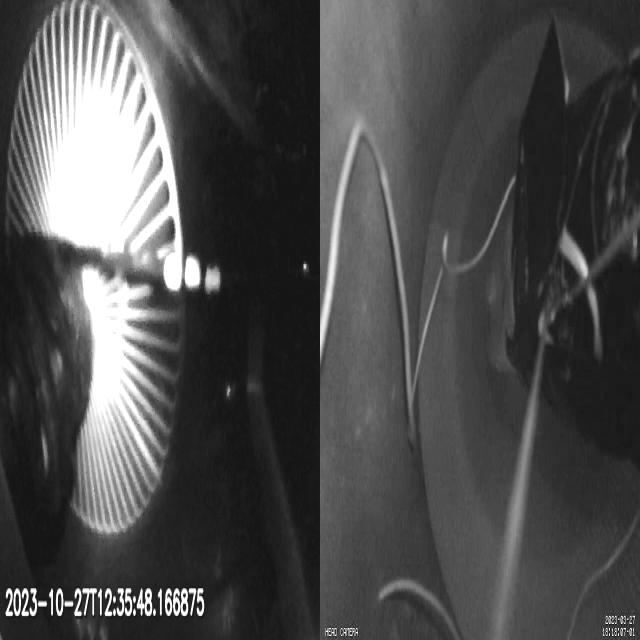white-dots: (162, 251, 221, 294)
